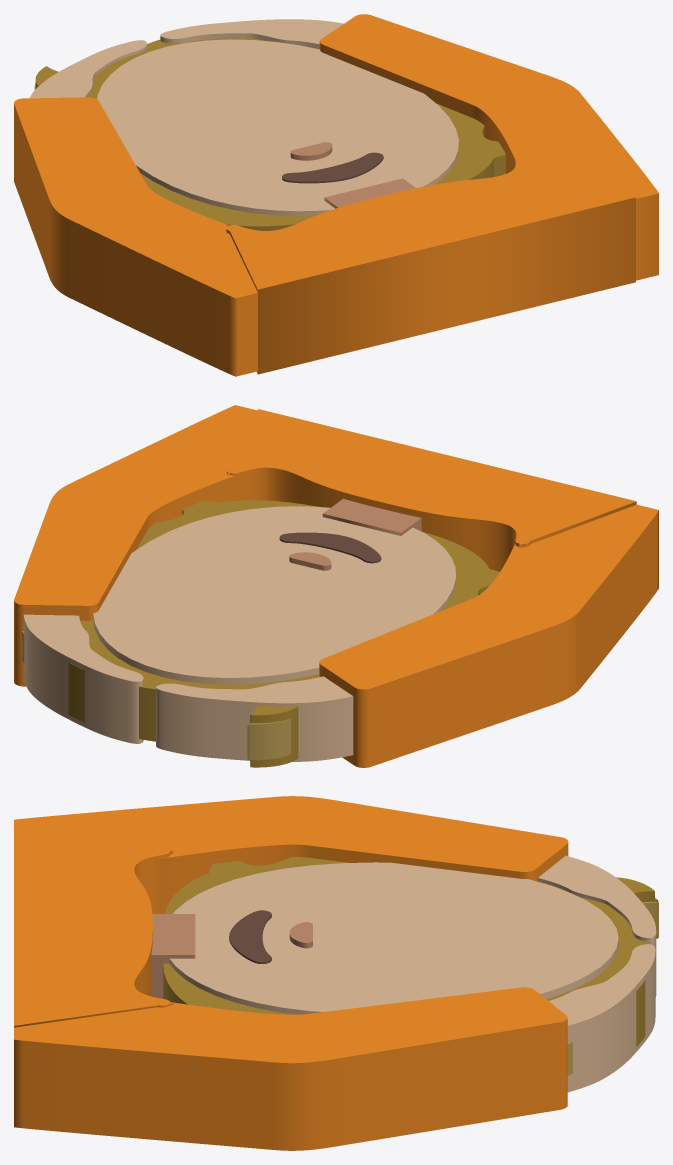
Rendered from emoji_u1f646_1f3fc.glb.
The picture shows the model from 3 angles, top to bottom: view 1: azimuth 30°, elevation 25°; view 2: azimuth 150°, elevation 25°; view 3: azimuth 270°, elevation 25°; orthographic projection. The views are drawn at different scales.
Visible parts, largest first — view 1: emoji_u1f646_1f3fc; view 2: emoji_u1f646_1f3fc; view 3: emoji_u1f646_1f3fc.
Part boxes in pixels (x1,y1,x2,y2): emoji_u1f646_1f3fc: (14,14,658,376); emoji_u1f646_1f3fc: (14,405,658,767); emoji_u1f646_1f3fc: (14,796,658,1150).
Size of the model in its own units: 0.0329 by 0.0052 by 0.0333.
